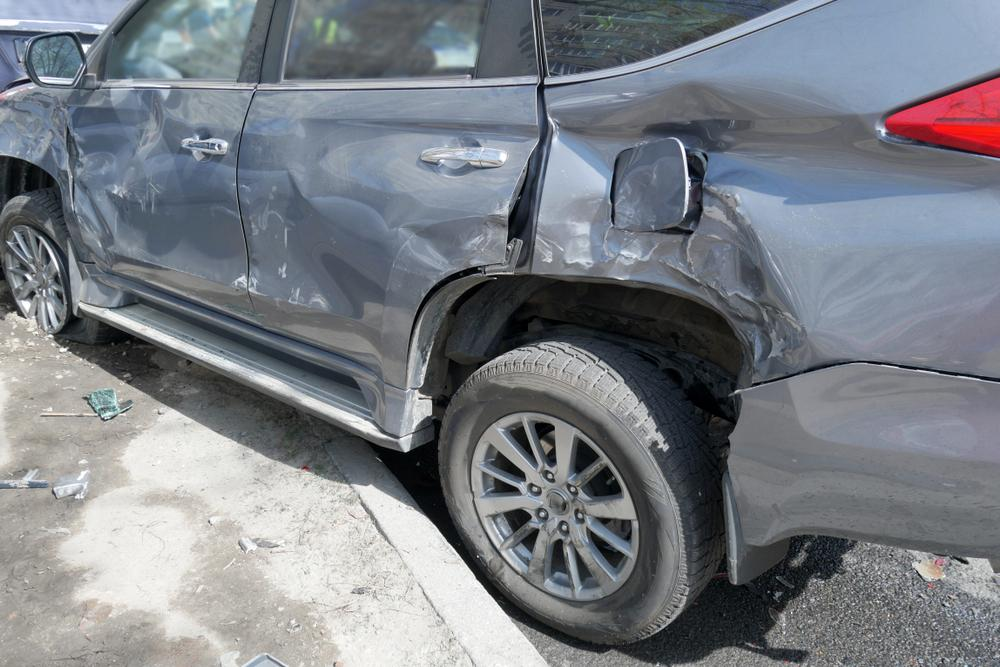dent: (536, 75, 832, 383), (258, 86, 533, 332), (66, 91, 163, 257), (0, 91, 54, 164)
tire flat: (0, 185, 111, 345)
